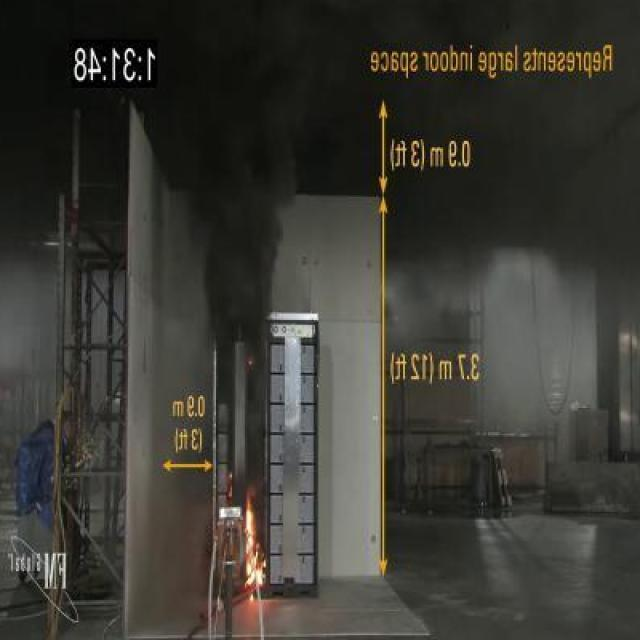fire: (183, 48, 302, 301)
smoke: (242, 498, 268, 596)
